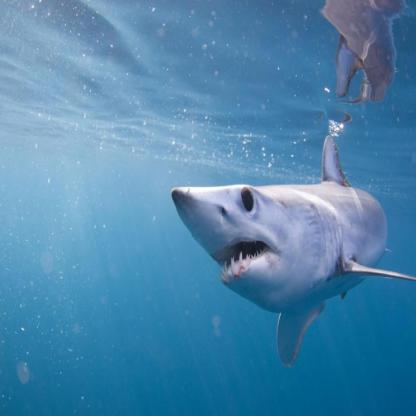mako-shark: (171, 134, 415, 370)
